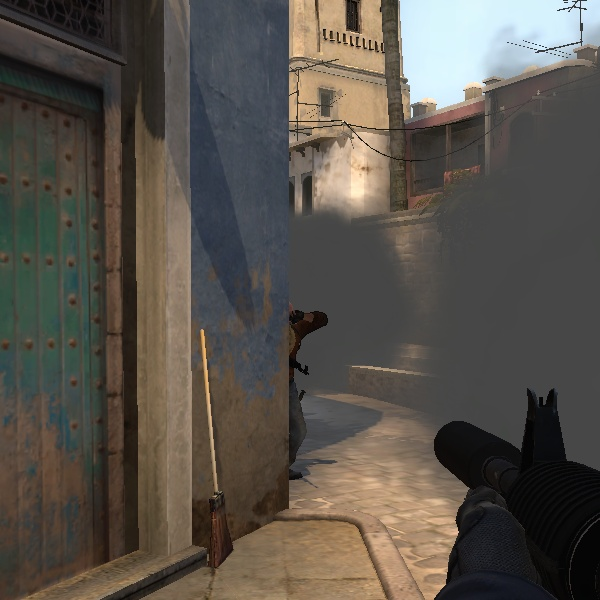t_body: (284, 295, 330, 484)
